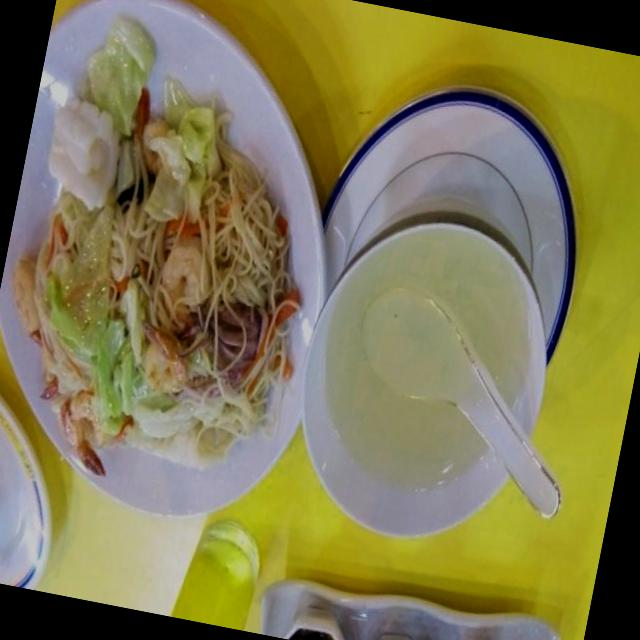Pasta: (0, 62, 353, 483)
